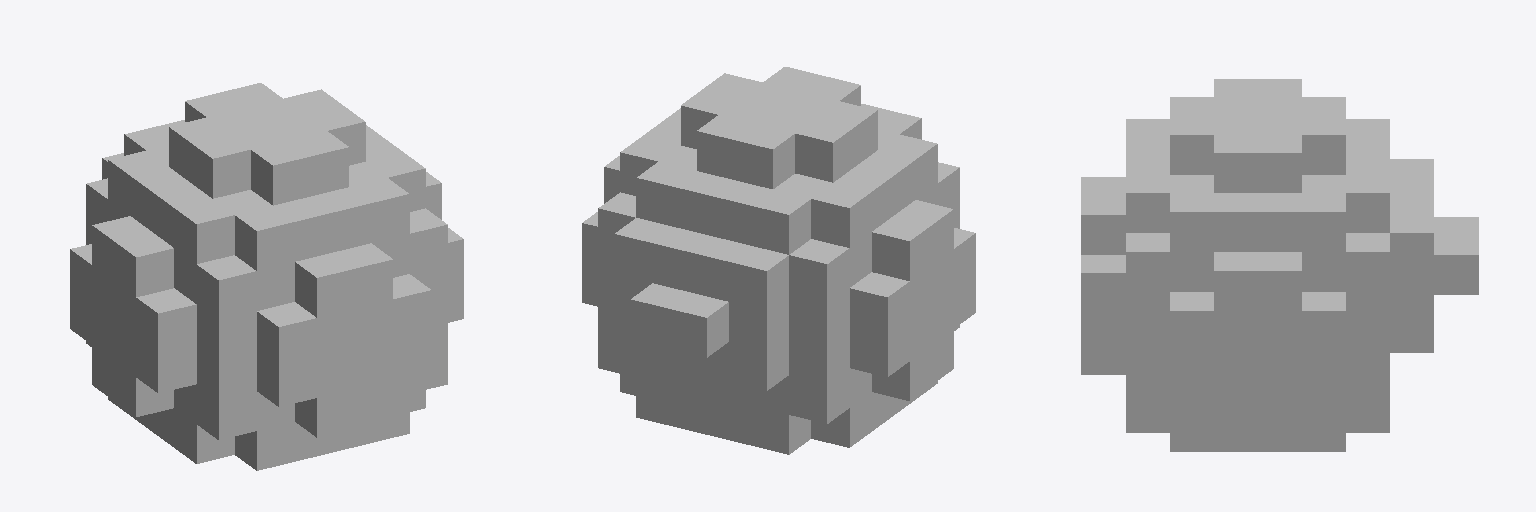
The model's file is Snowman_Head_1.obj.
The picture shows the model from 3 angles: view 1: azimuth 30°, elevation 25°; view 2: azimuth 150°, elevation 25°; view 3: azimuth 270°, elevation 25°; orthographic projection.
Parts seen in each view (by area): view 1: object 1; view 2: object 1; view 3: object 1.
Part boxes in pixels (x1,y1,x2,y2): object 1: (70, 83, 463, 470); object 1: (582, 67, 975, 454); object 1: (1081, 79, 1478, 451).
Size of the model in its own units: 0.8 by 0.7 by 0.9.